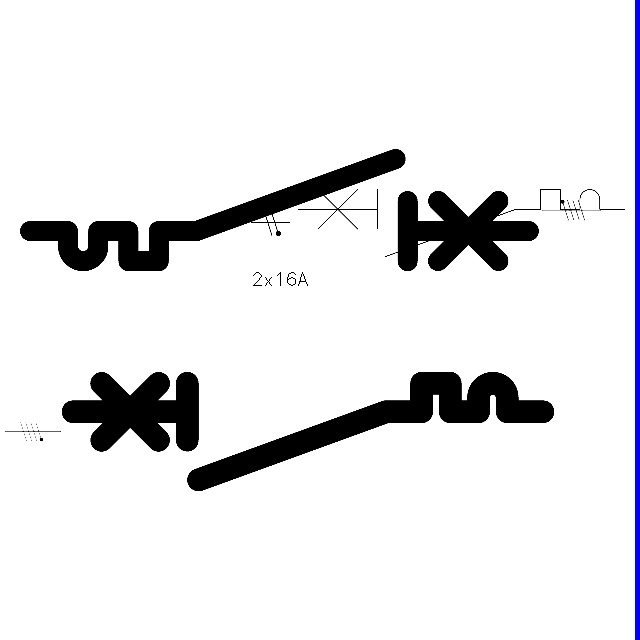interruptor_termomagnetico: (17, 146, 541, 274), (60, 371, 554, 492), (289, 181, 632, 265)
